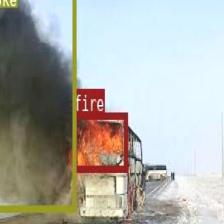fire: (72, 111, 126, 171)
smoke: (0, 0, 75, 210)
